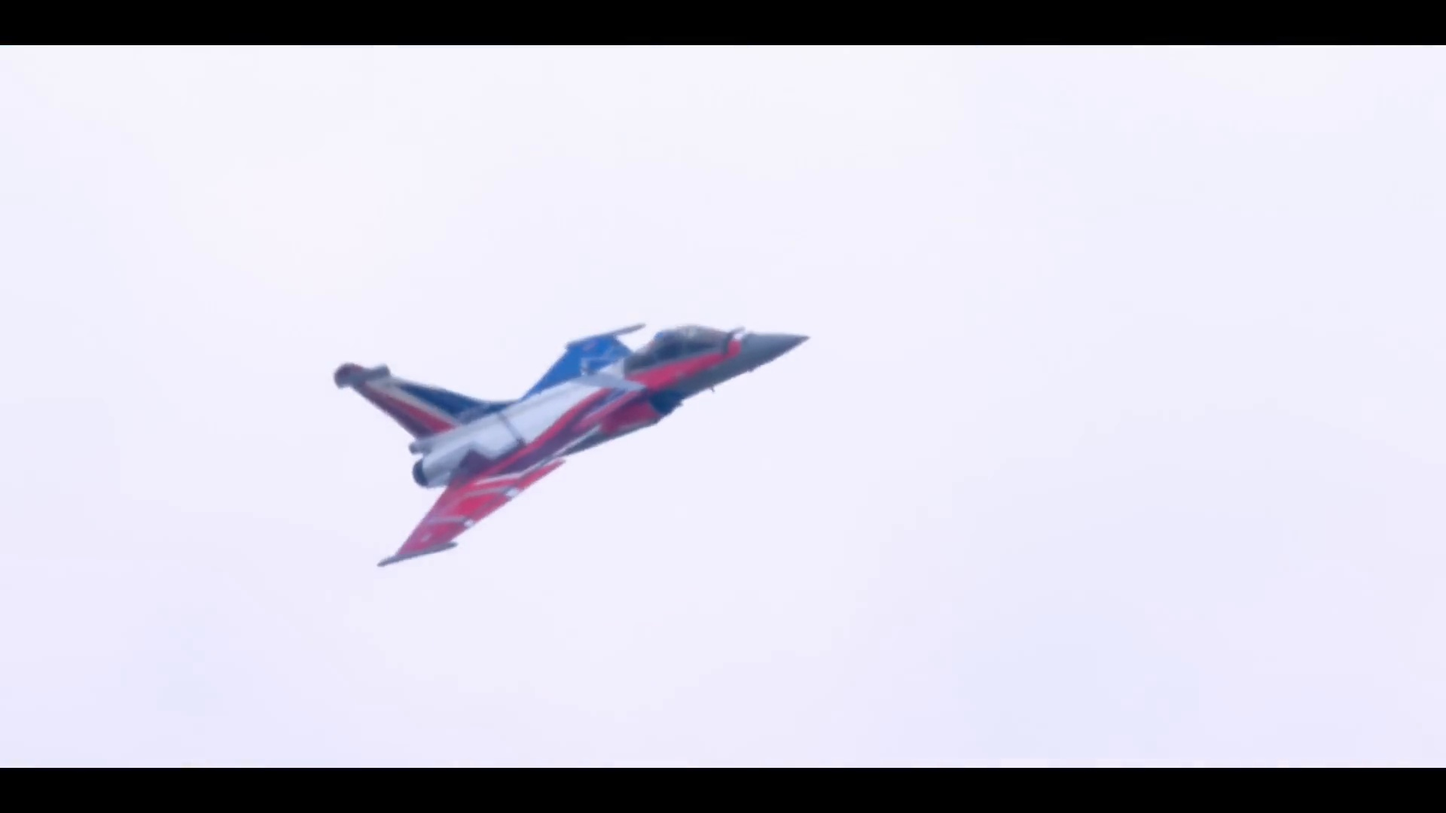Rafale: (328, 316, 818, 574)
